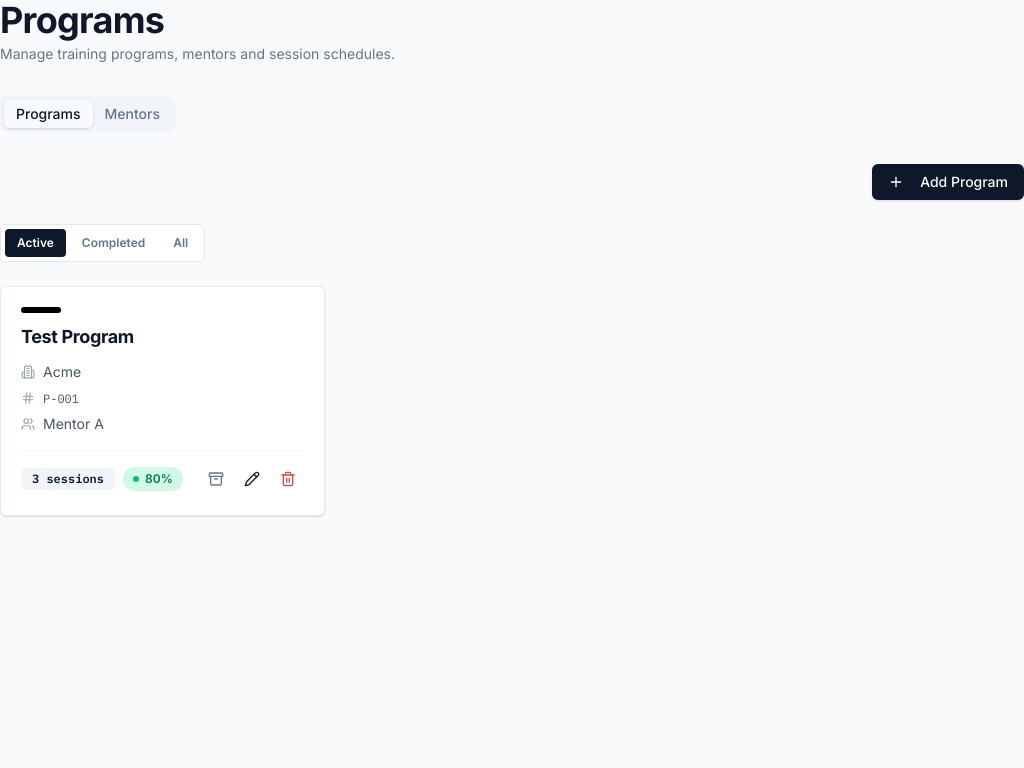
Scenario: Programs — Programs tab › mentor tag input adds and removes tags
The image size is (1024, 768).
expect the heading "Test Program" is shown: met, box [21,325,134,350]
Click the button with test id "add-program-btn" at (948, 182), box [872,164,1023,200]
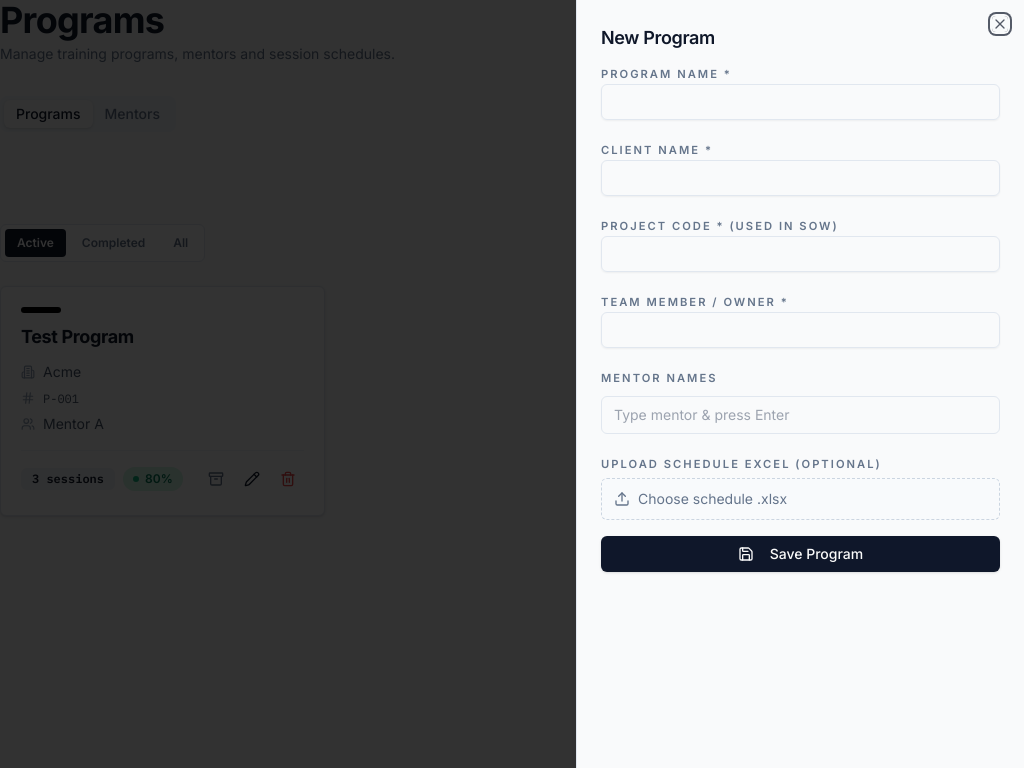
Type "Custom Mentor" into the field with test id "program-mentor-input" at (800, 415), box [610,405,991,425]
Then press Enter
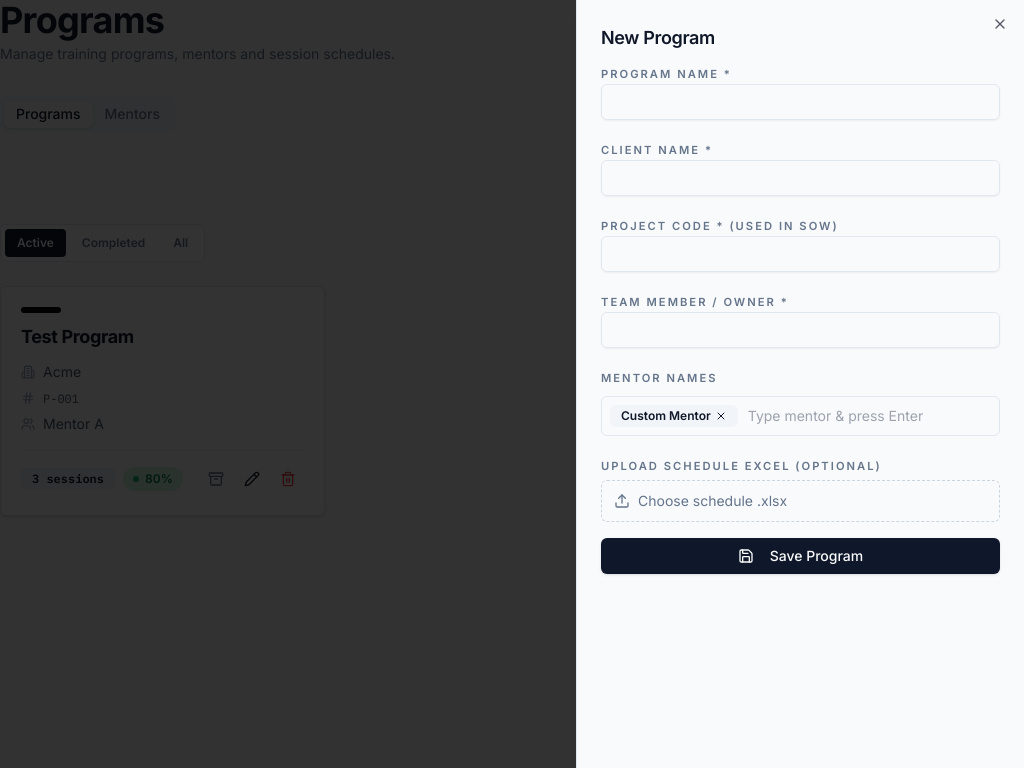
expect the text "Custom Mentor" is shown: met, box [610,405,738,427]
